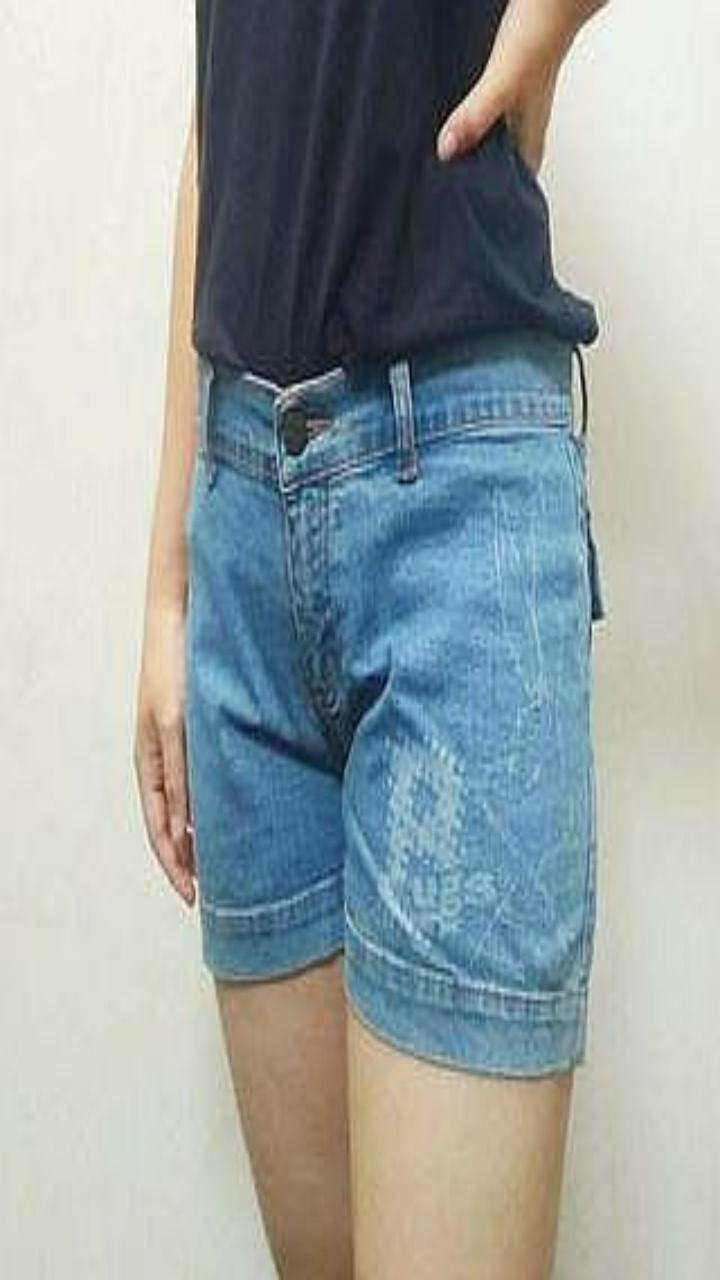Shorts: (186, 330, 604, 1075)
